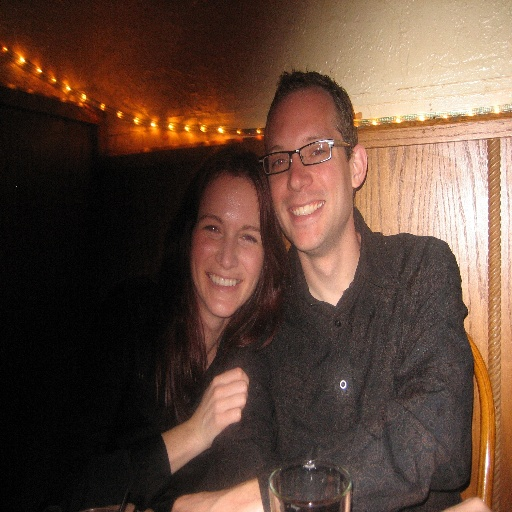hand: (155, 367, 258, 463), (168, 479, 281, 511)
